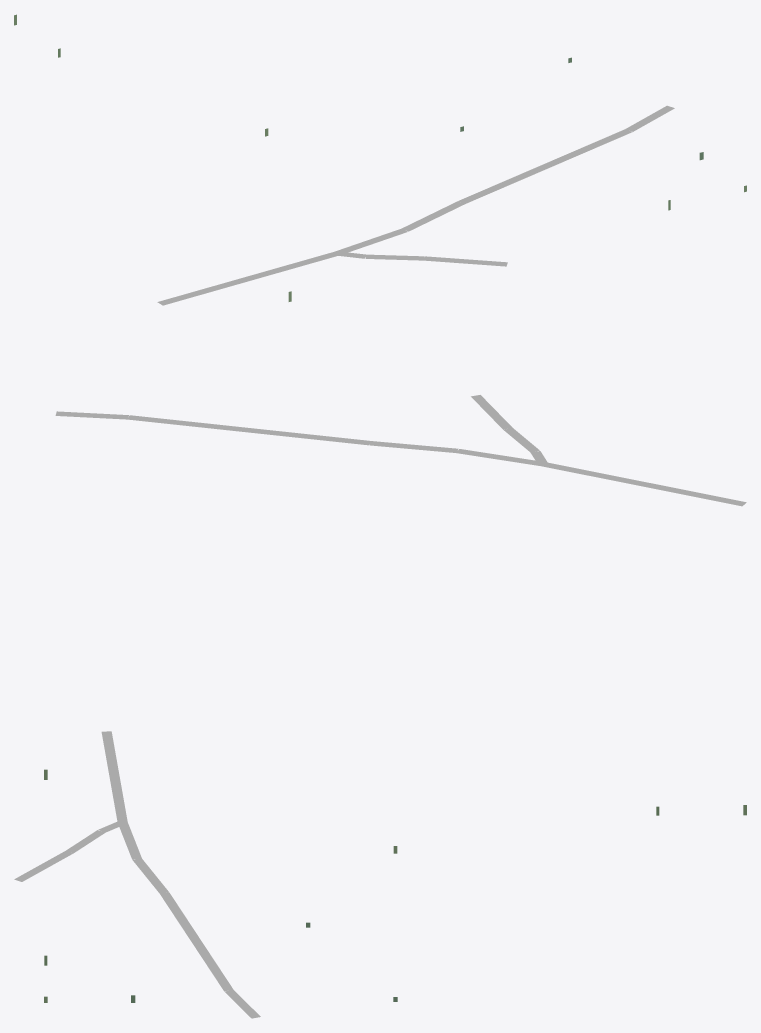
3 renders of one model, top to bottom at view 1: azimuth 30°, elevation 25°; view 2: azimuth 150°, elevation 25°; view 3: azimuth 270°, elevation 25°, orthographic. The views are drawn at different scales.
Bounding box in the file's own units: 465 × 10.41 × 503.
